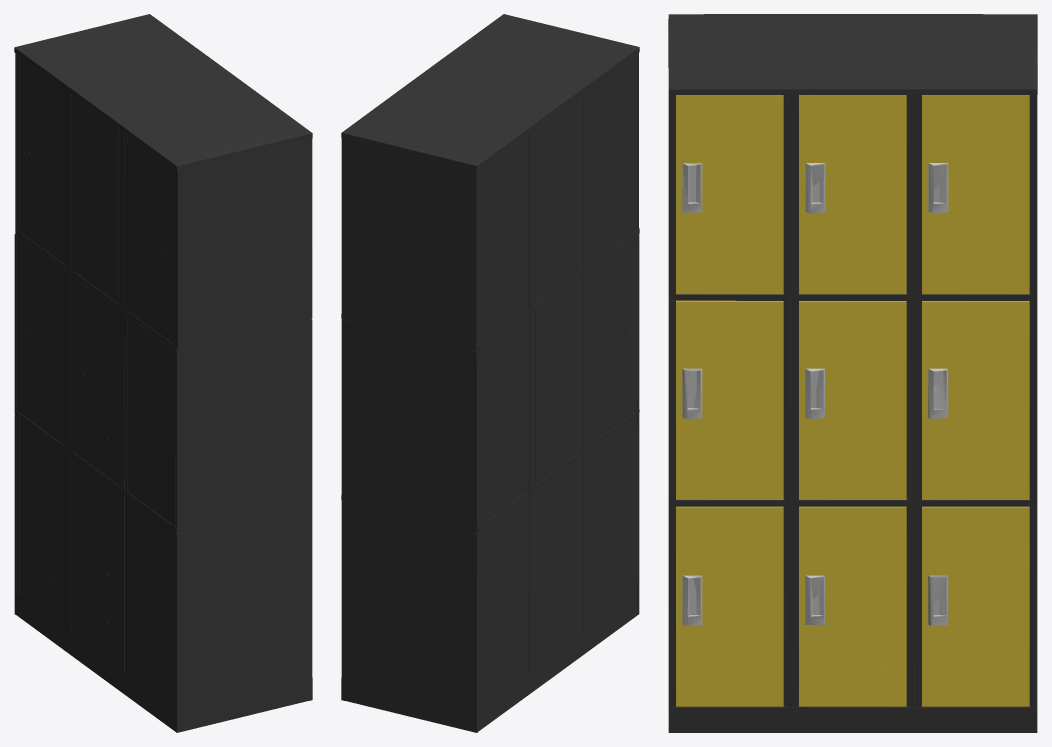
File: lockers.glb
3 views of the same model, side by side, from view 1: azimuth 30°, elevation 25°; view 2: azimuth 150°, elevation 25°; view 3: azimuth 270°, elevation 25° (orthographic). The views are drawn at different scales.
Parts seen in each view (by area): view 1: lockers_mesh; view 2: lockers_mesh; view 3: lockers_mesh.
Boxes of the visible parts, <box> form: lockers_mesh: <box>14,14,312,732</box>; lockers_mesh: <box>341,14,639,732</box>; lockers_mesh: <box>668,14,1037,732</box>.
Bounding box in the file's own units: 0.5102 × 2 × 1.04.
